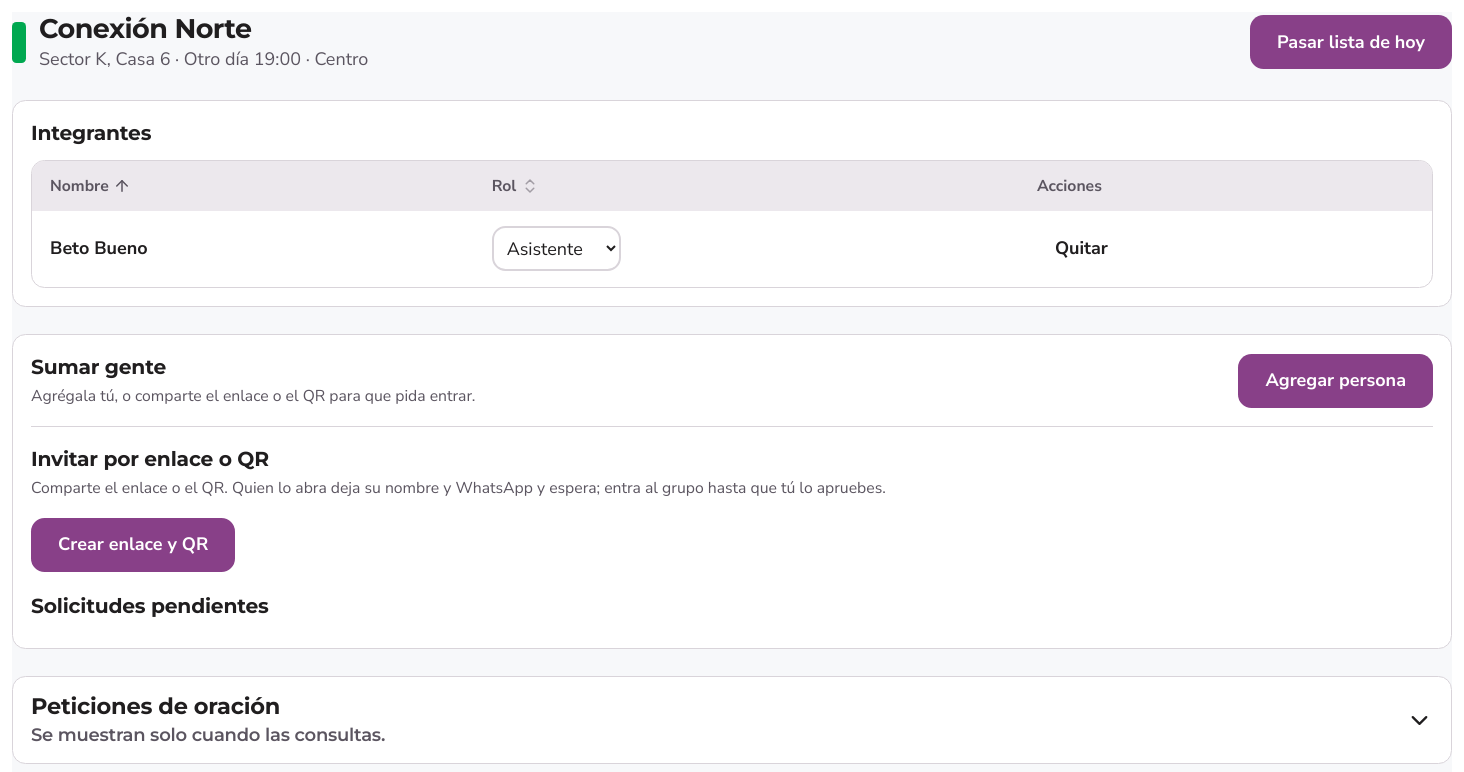
Test: GrupoPage › avisa antes de pasar lista un día que no es el del grupo
Click the button "Pasar lista de hoy".
click(1351, 42)  # box [1250, 15, 1452, 69]
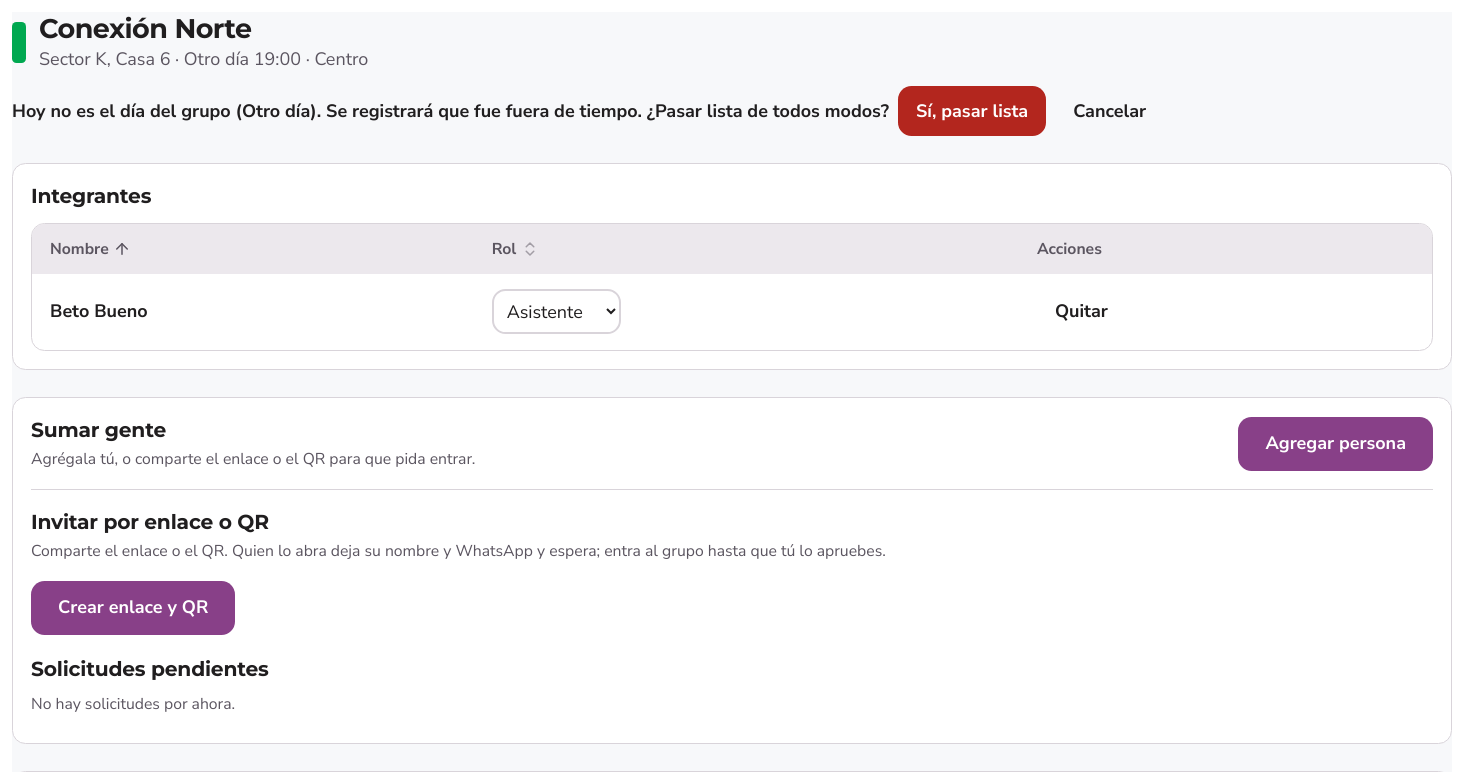
Expected: the text "Hoy no es el día del grupo (Otro día)" is shown, [12, 98, 889, 122]
Expected: the button "Sí, pasar lista" is shown, [898, 86, 1046, 136]
